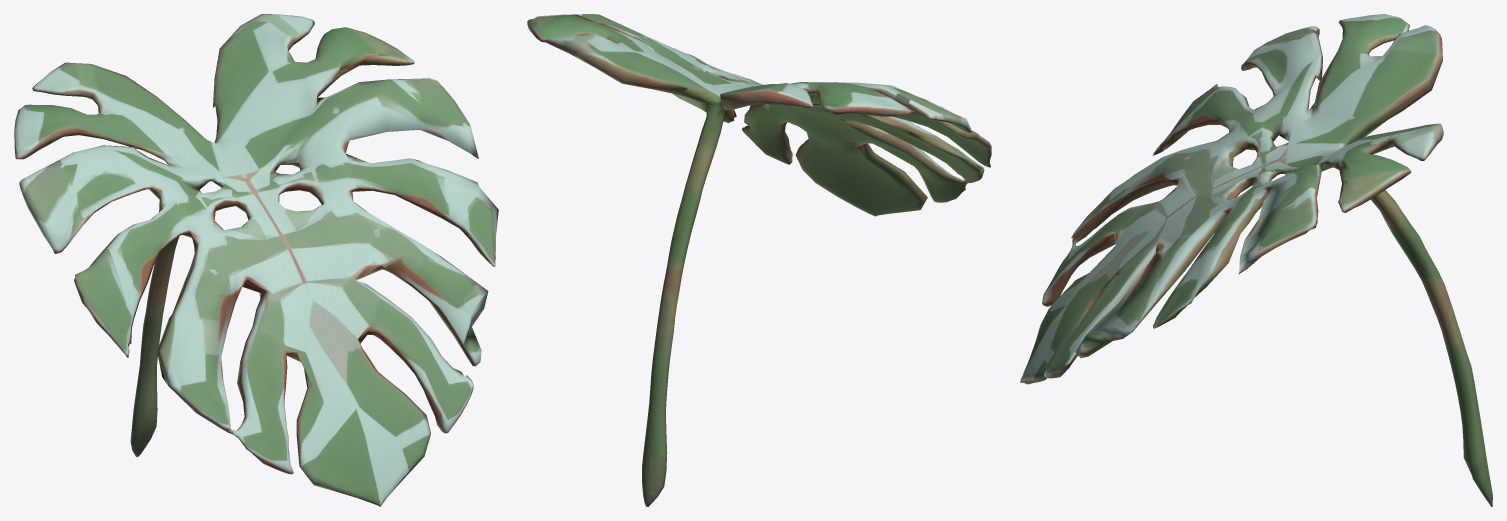
The model's file is mon_speckle_greencream_v2.glb.
The picture shows the model from 3 angles, left to right: view 1: azimuth 30°, elevation 25°; view 2: azimuth 150°, elevation 25°; view 3: azimuth 270°, elevation 25°; orthographic projection. The views are drawn at different scales.
Visible parts, largest first — view 1: world; view 2: world; view 3: world.
Part boxes in pixels (left/top/right/bottom): world: left=14, top=14, right=498, bottom=506; world: left=527, top=14, right=991, bottom=506; world: left=1020, top=14, right=1492, bottom=506.
Bounding box in the file's own units: 2 × 1.96 × 1.97.
1 material, 1 textured.
